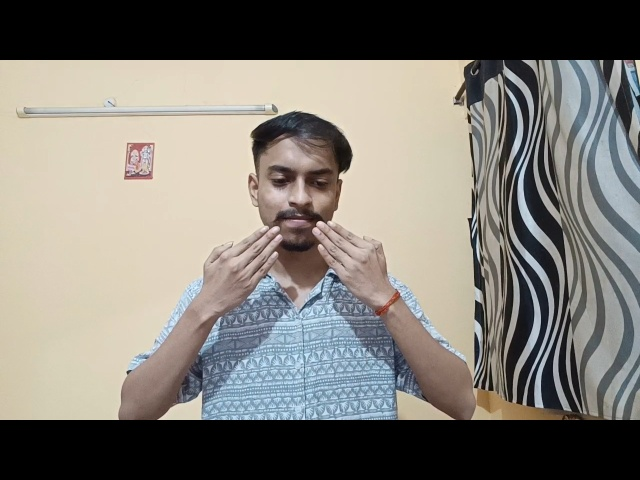Thank you: (186, 202, 409, 372)
